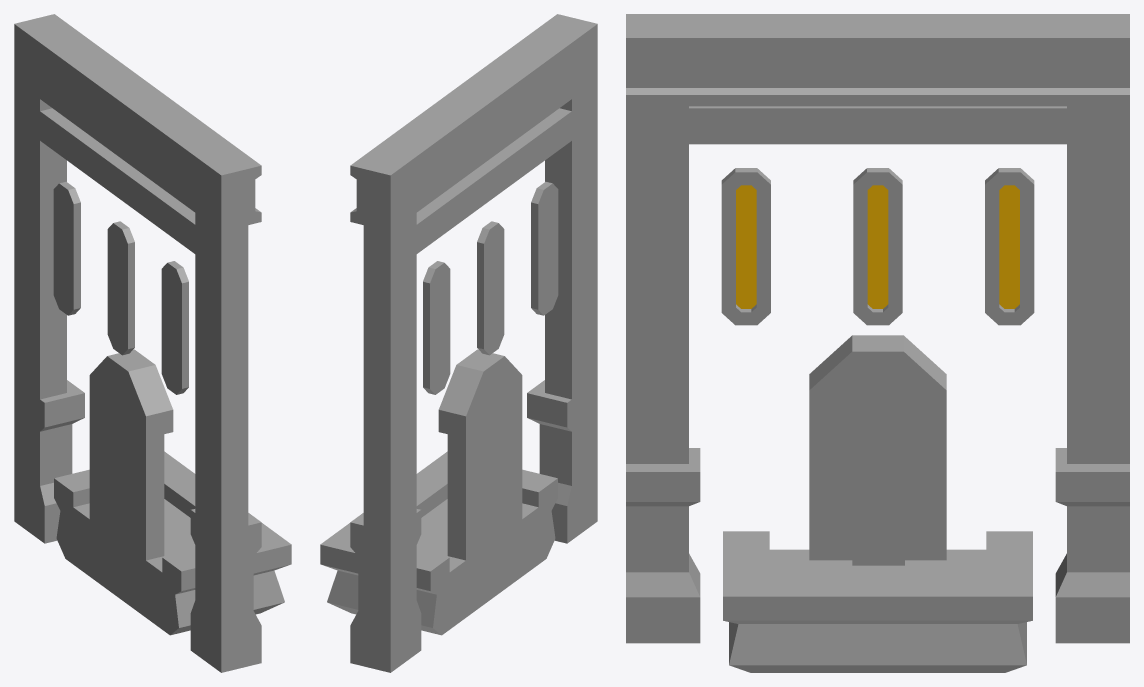
File: Dungeon_New_Wall_Decoration_01.fbx
3 views of the same model, side by side, from view 1: azimuth 30°, elevation 25°; view 2: azimuth 150°, elevation 25°; view 3: azimuth 270°, elevation 25° (orthographic). The views are drawn at different scales.
Parts seen in each view (by area): view 1: Model; view 2: Model; view 3: Model.
Part boxes in pixels (<box>): Model: <box>14,14,291,672</box>; Model: <box>320,14,597,672</box>; Model: <box>626,14,1129,672</box>.
Bounding box in the file's own units: 246 × 1060 × 800.
